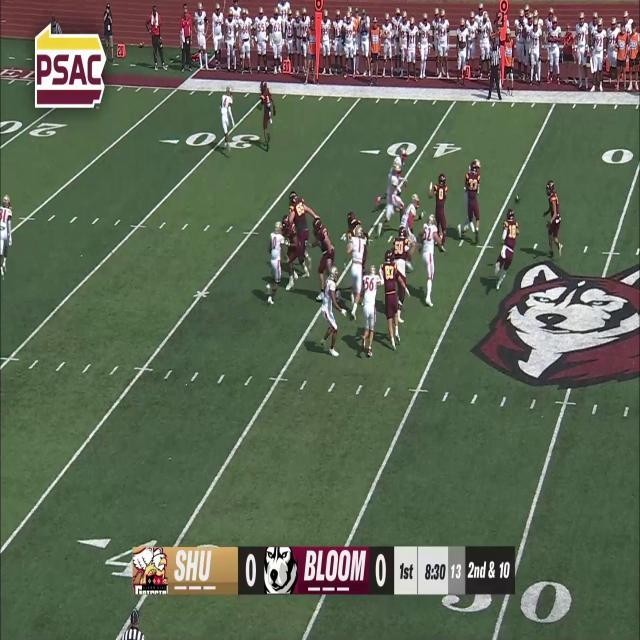football: (514, 193, 522, 206)
